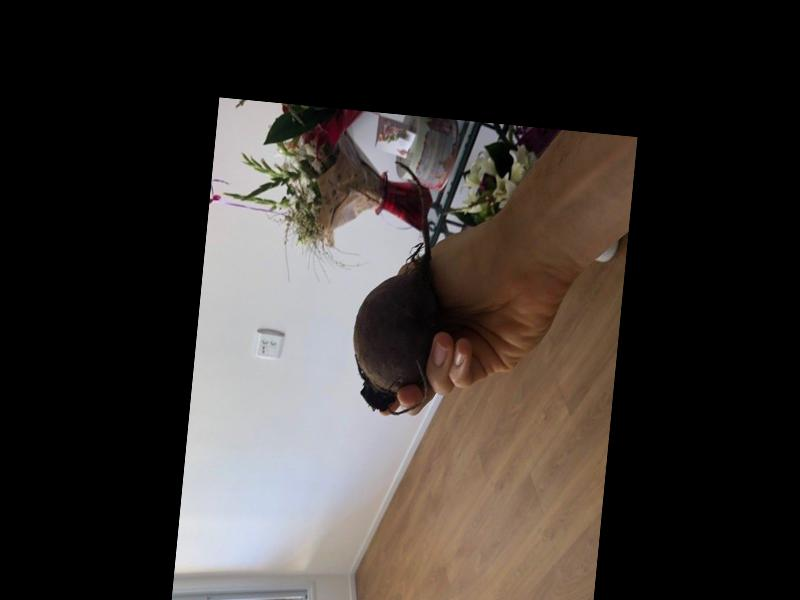Beet: (346, 159, 457, 418)
